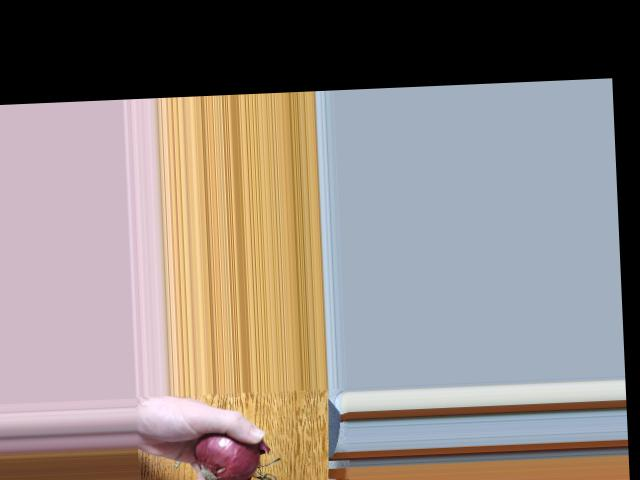onion: (198, 428, 259, 479)
